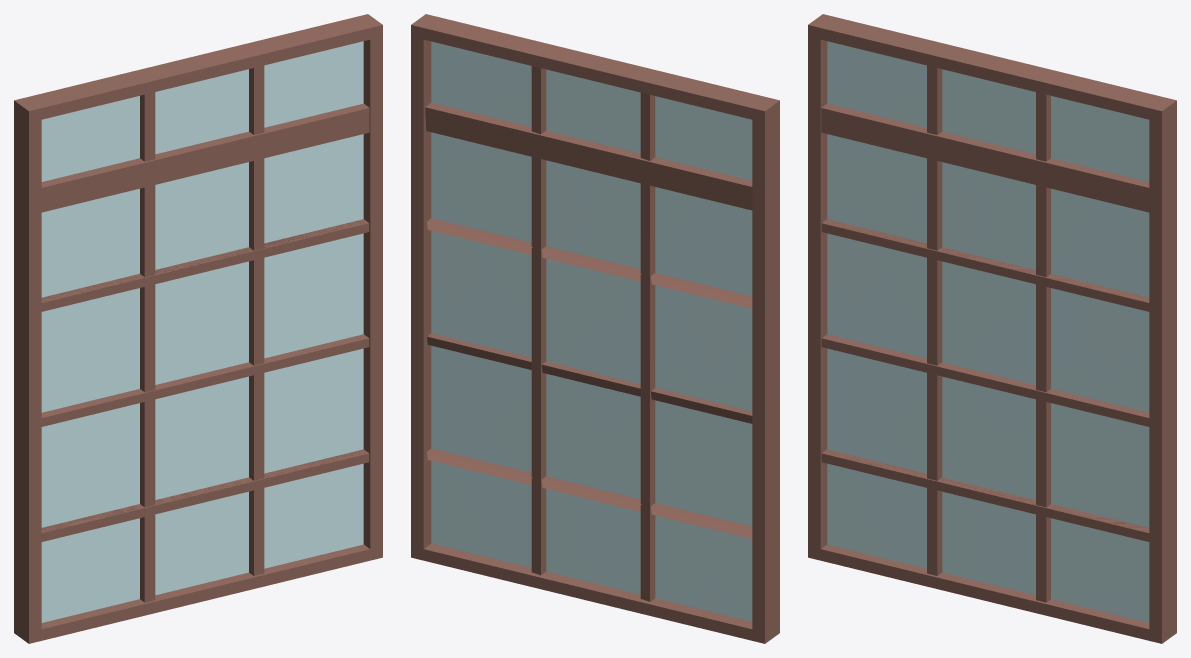
Rendered from window_032.fbx.
3 renders of one model, left to right at view 1: azimuth 30°, elevation 25°; view 2: azimuth 150°, elevation 25°; view 3: azimuth 330°, elevation 25°, orthographic.
Visible parts, largest first — view 1: window_032; view 2: window_032; view 3: window_032.
Boxes of the visible parts, <box> form: window_032: <box>14,14,382,643</box>; window_032: <box>411,14,779,643</box>; window_032: <box>808,14,1176,643</box>.
Size of the model in its own units: 192 by 13.98 by 276.
